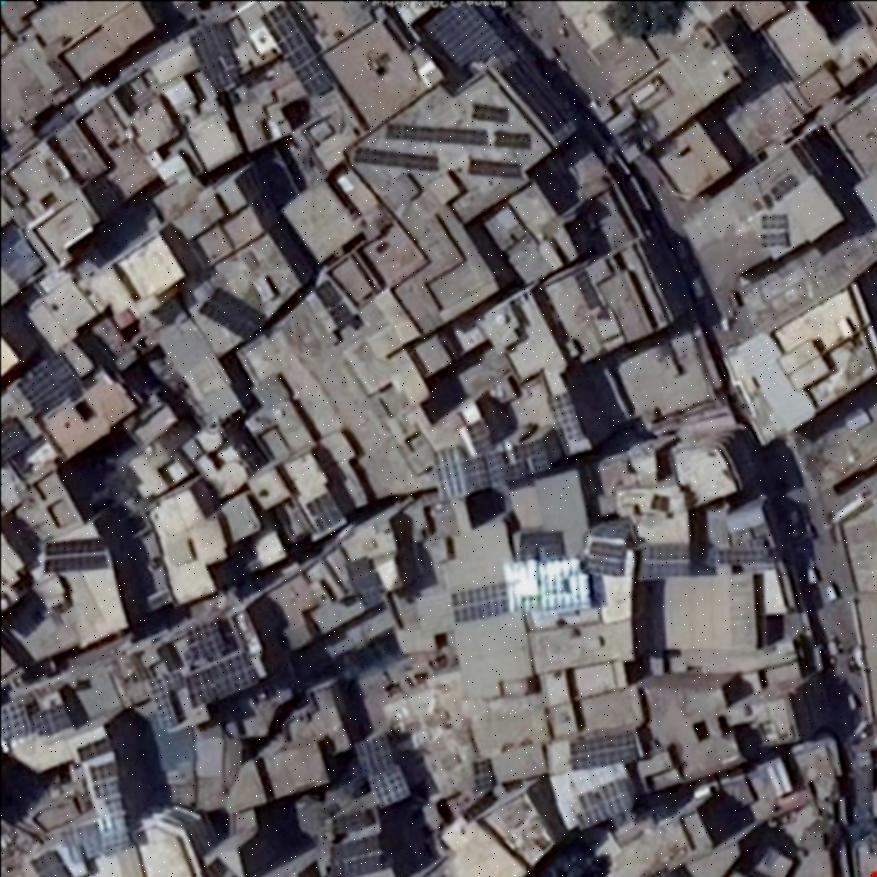Solarpanel: (259, 3, 335, 98), (421, 1, 507, 81), (182, 652, 257, 707), (357, 735, 409, 804), (332, 832, 386, 877), (578, 778, 628, 826), (571, 733, 639, 766), (452, 584, 510, 621), (353, 145, 438, 170), (44, 539, 104, 572), (385, 126, 487, 144), (432, 445, 464, 501), (636, 545, 689, 578), (144, 678, 178, 728), (547, 391, 579, 444), (304, 492, 339, 532), (1, 697, 30, 742), (585, 542, 625, 574), (99, 818, 131, 857), (88, 764, 120, 799), (468, 159, 522, 178), (30, 852, 71, 877), (471, 756, 495, 791), (461, 457, 488, 488), (483, 450, 507, 484), (761, 216, 788, 246), (716, 549, 765, 565), (76, 739, 112, 760), (474, 103, 507, 123), (493, 132, 530, 149)
